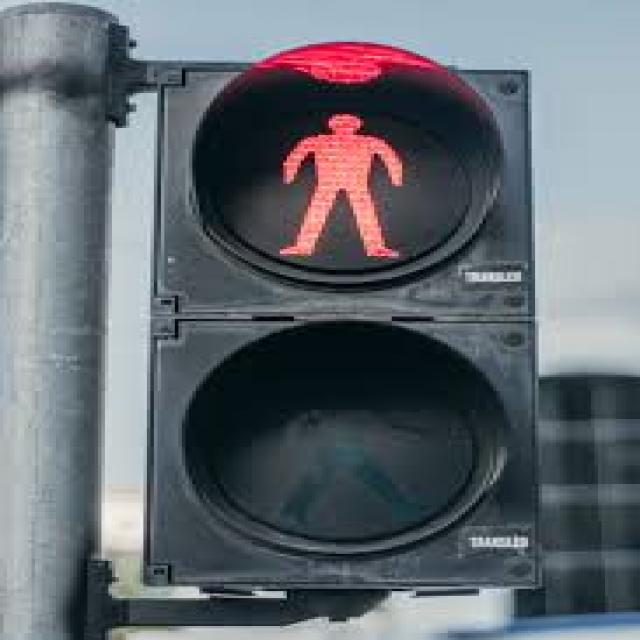Not go: (161, 56, 524, 602), (85, 57, 499, 283)
